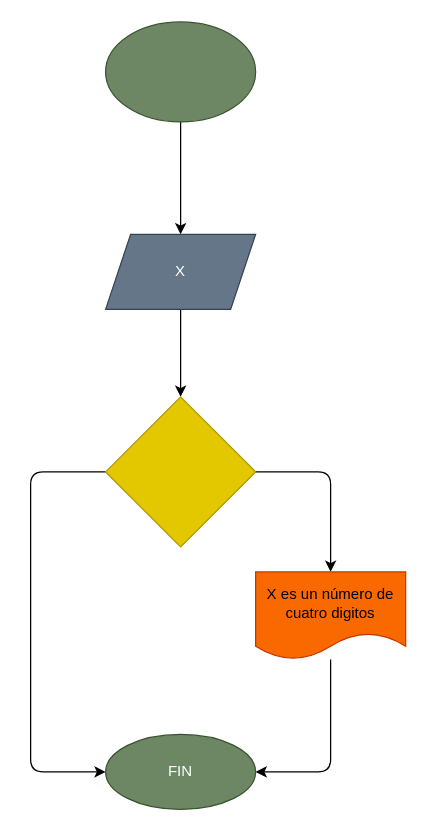
The diagram is 428 pixels wide and 831 high, and some of its shapes have lost their labels. The box of each missing label's shape, as (x1, y1, x2, y2) in pixels:
999 < X < 10.000: (104, 396, 256, 547)
INICIO: (104, 21, 256, 122)
